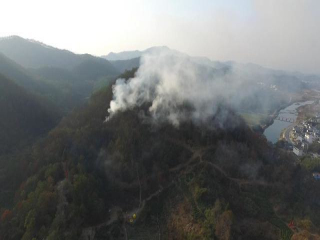smoke: (102, 35, 267, 134)
